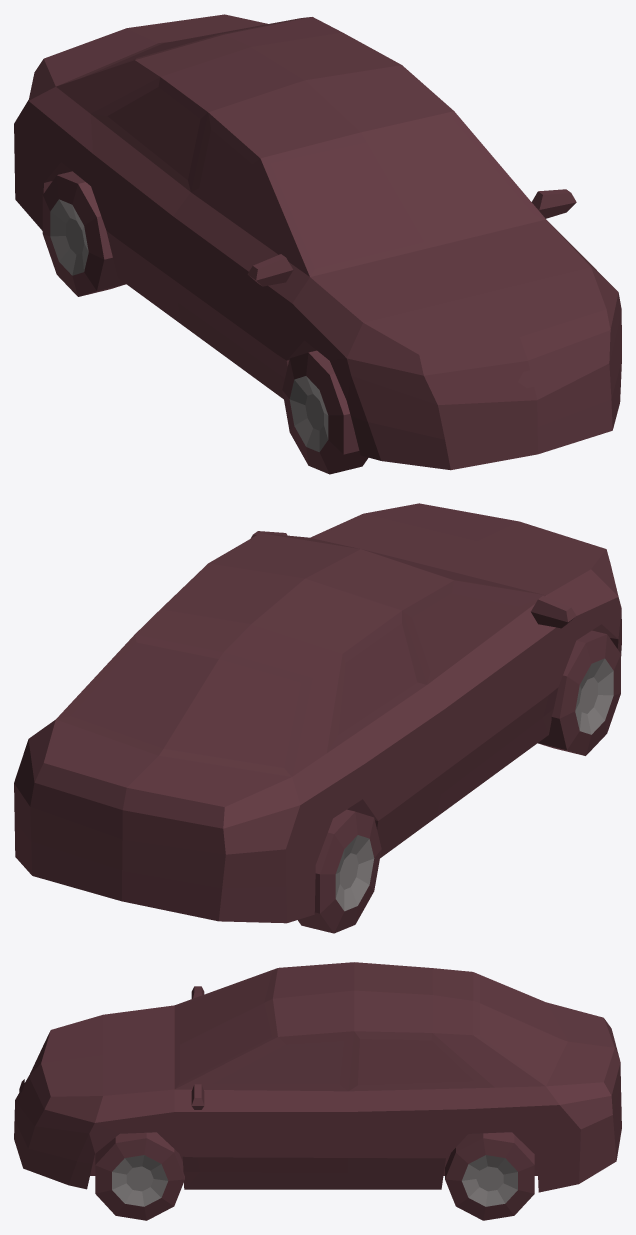
Rendered from SM_Car_Passenger.fbx.
3 views of the same model, one above another, from view 1: azimuth 30°, elevation 25°; view 2: azimuth 150°, elevation 25°; view 3: azimuth 270°, elevation 25° (orthographic). The views are drawn at different scales.
Visible parts, largest first — view 1: car-passenger-base, car-passenger-wheel_FR, car-passenger-wheel_BR; view 2: car-passenger-base, car-passenger-wheel_FR, car-passenger-wheel_BR; view 3: car-passenger-base, car-passenger-wheel_BL, car-passenger-wheel_FL.
Boxes of the visible parts, x1,y1,x2,y2 form: car-passenger-base: (14, 14, 621, 470); car-passenger-wheel_FR: (282, 350, 368, 474); car-passenger-wheel_BR: (42, 171, 125, 296); car-passenger-base: (14, 503, 621, 923); car-passenger-wheel_FR: (538, 630, 620, 755); car-passenger-wheel_BR: (298, 809, 381, 933); car-passenger-base: (14, 962, 621, 1192); car-passenger-wheel_BL: (445, 1132, 534, 1220); car-passenger-wheel_FL: (95, 1132, 184, 1220).
Size of the model in its own units: 2.1 by 1.55 by 4.72.
